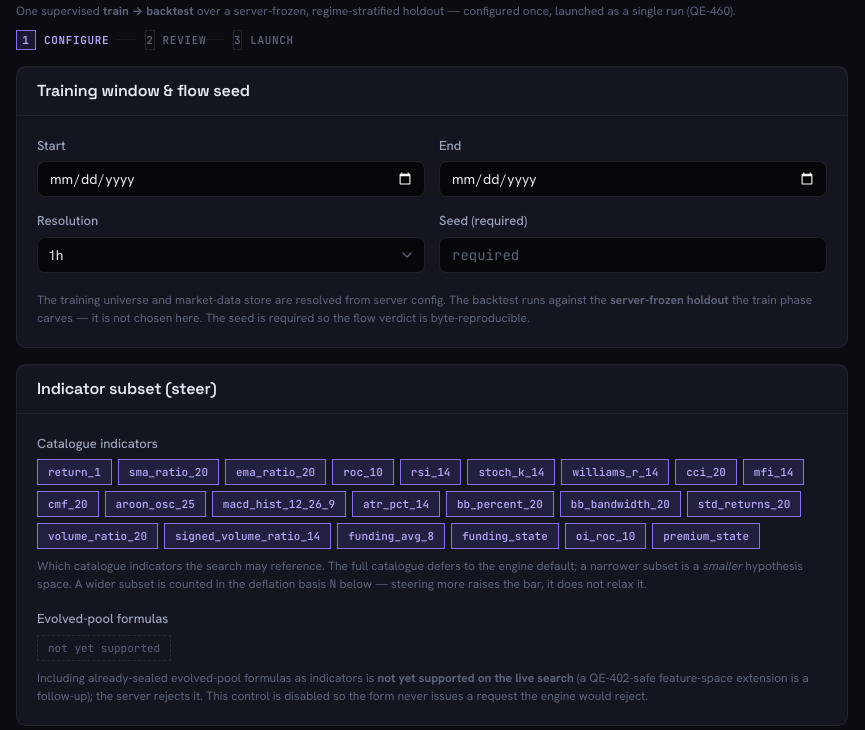
Test: NewFlow — the single stepped composite-flow page › blocks a windows value below the compiled floor before advancing to review
The width and height of the screenshot is (865, 730).
Type "2021-01-01" into the date field labelled "Start". click: point(231, 179)
box: left=48, top=162, right=414, bottom=196
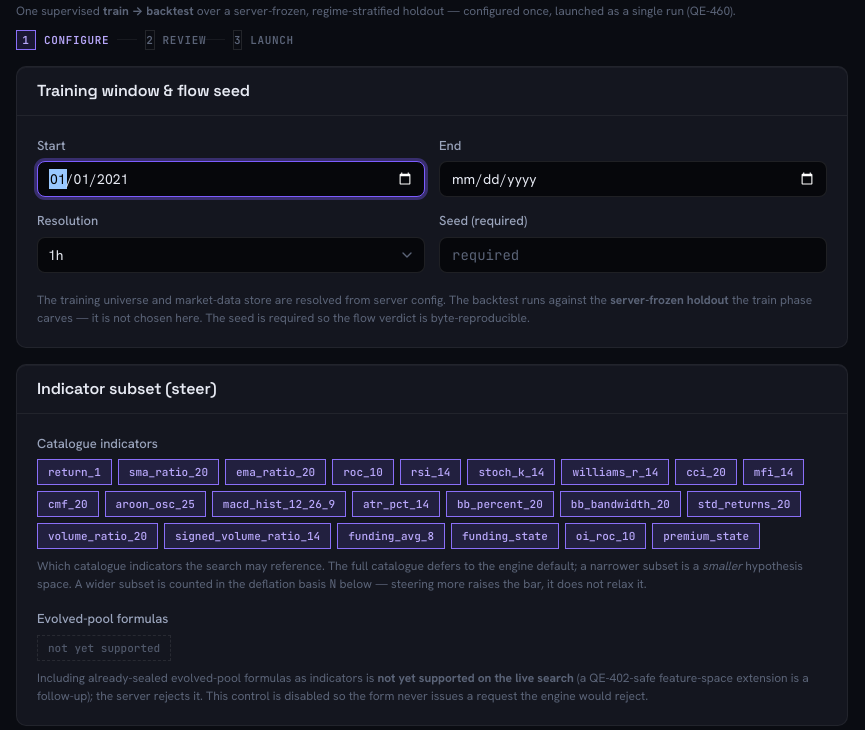
Type "2021-06-01" into the date field labelled "End". click: point(633, 179)
box: left=450, top=162, right=816, bottom=196
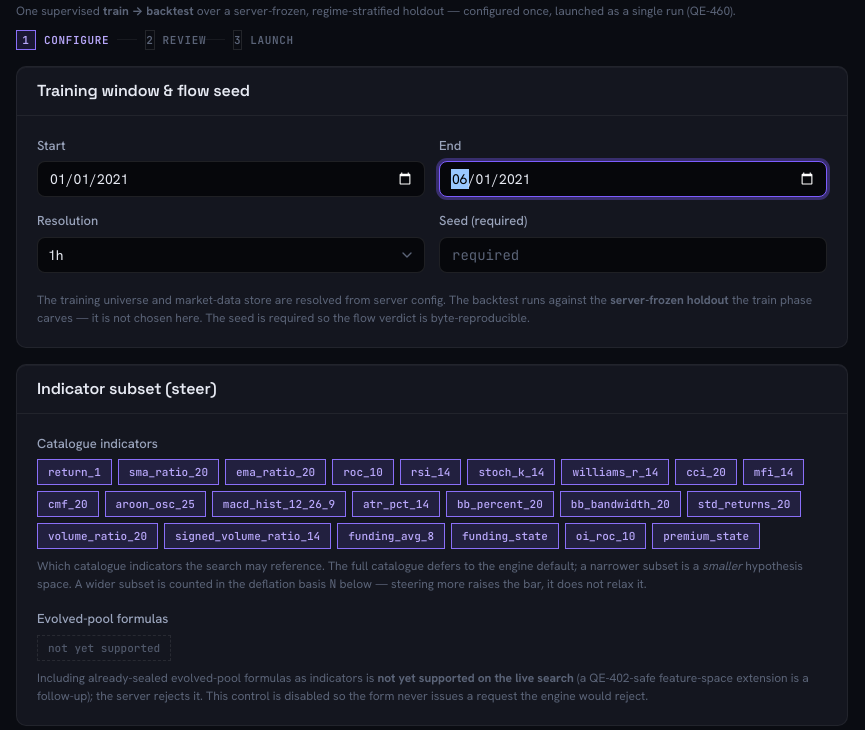
Type "9" into the field labelled "Seed (required)". click: point(633, 255)
box: left=450, top=238, right=816, bottom=272
(page scrolled)
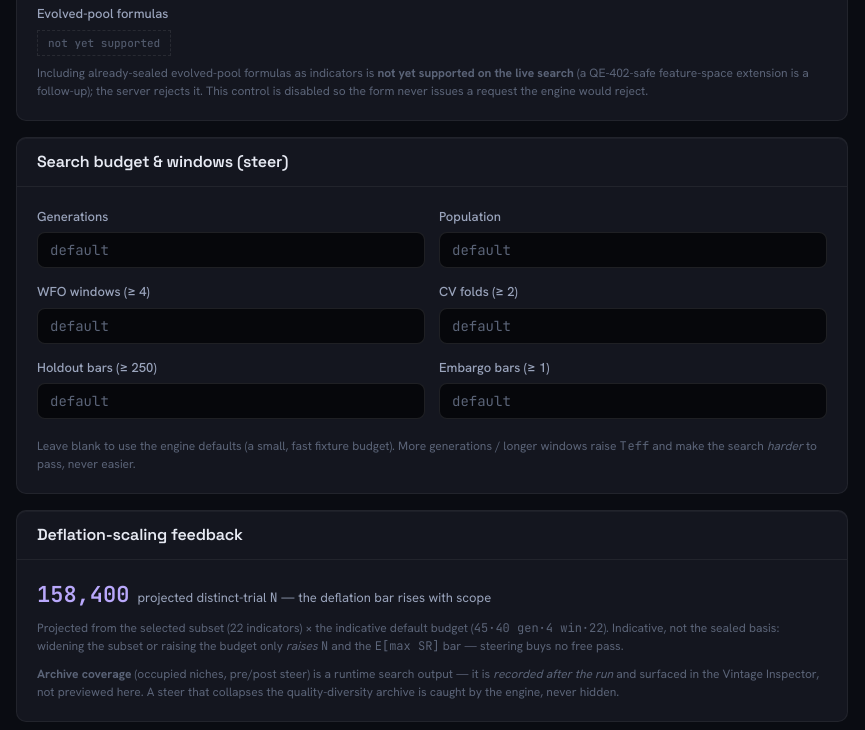
Type "2" into the field labelled "WFO windows (≥ 4)". click: point(231, 326)
box: left=48, top=309, right=414, bottom=343
(page scrolled)
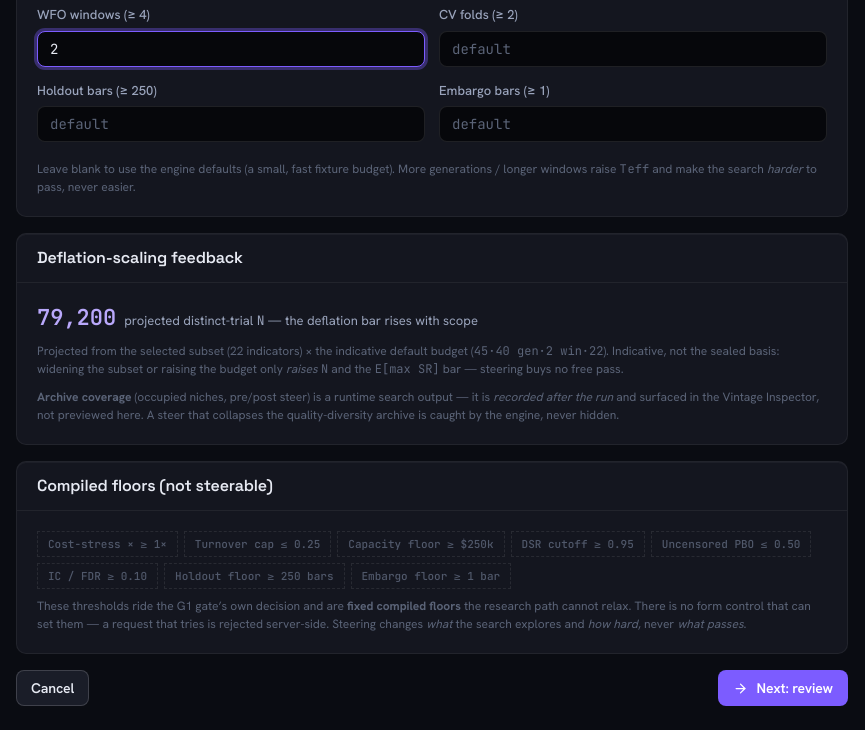
Click the button "Next: review". click: point(783, 688)
box: left=718, top=670, right=848, bottom=706
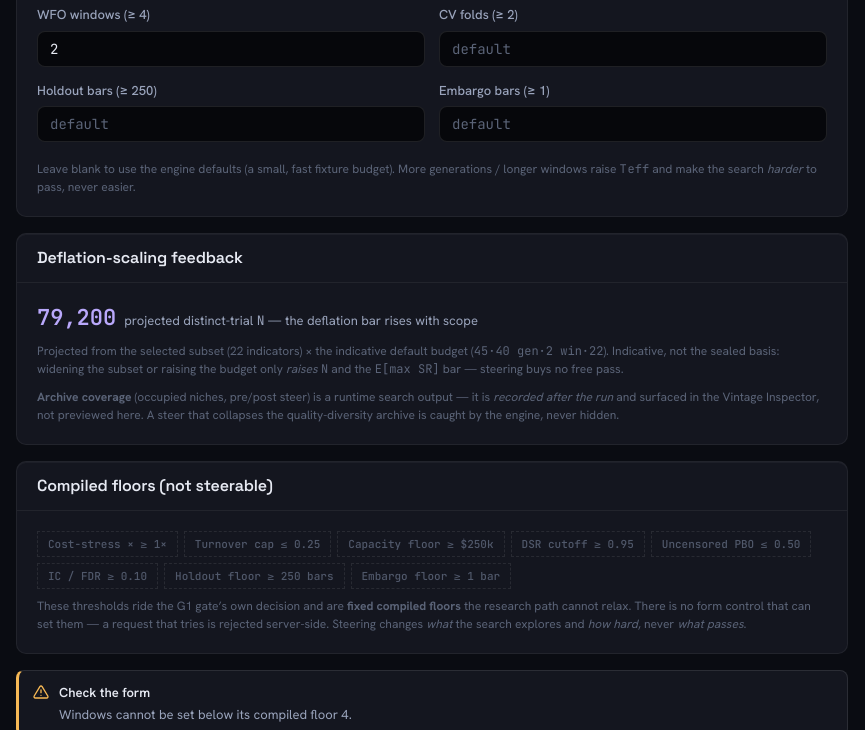
Now the text "compiled floor 4" is shown, box left=59, top=706, right=352, bottom=723
